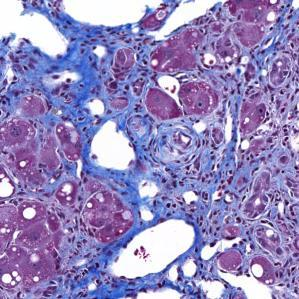fibrosis: (132, 138, 250, 220), (54, 43, 156, 125)
